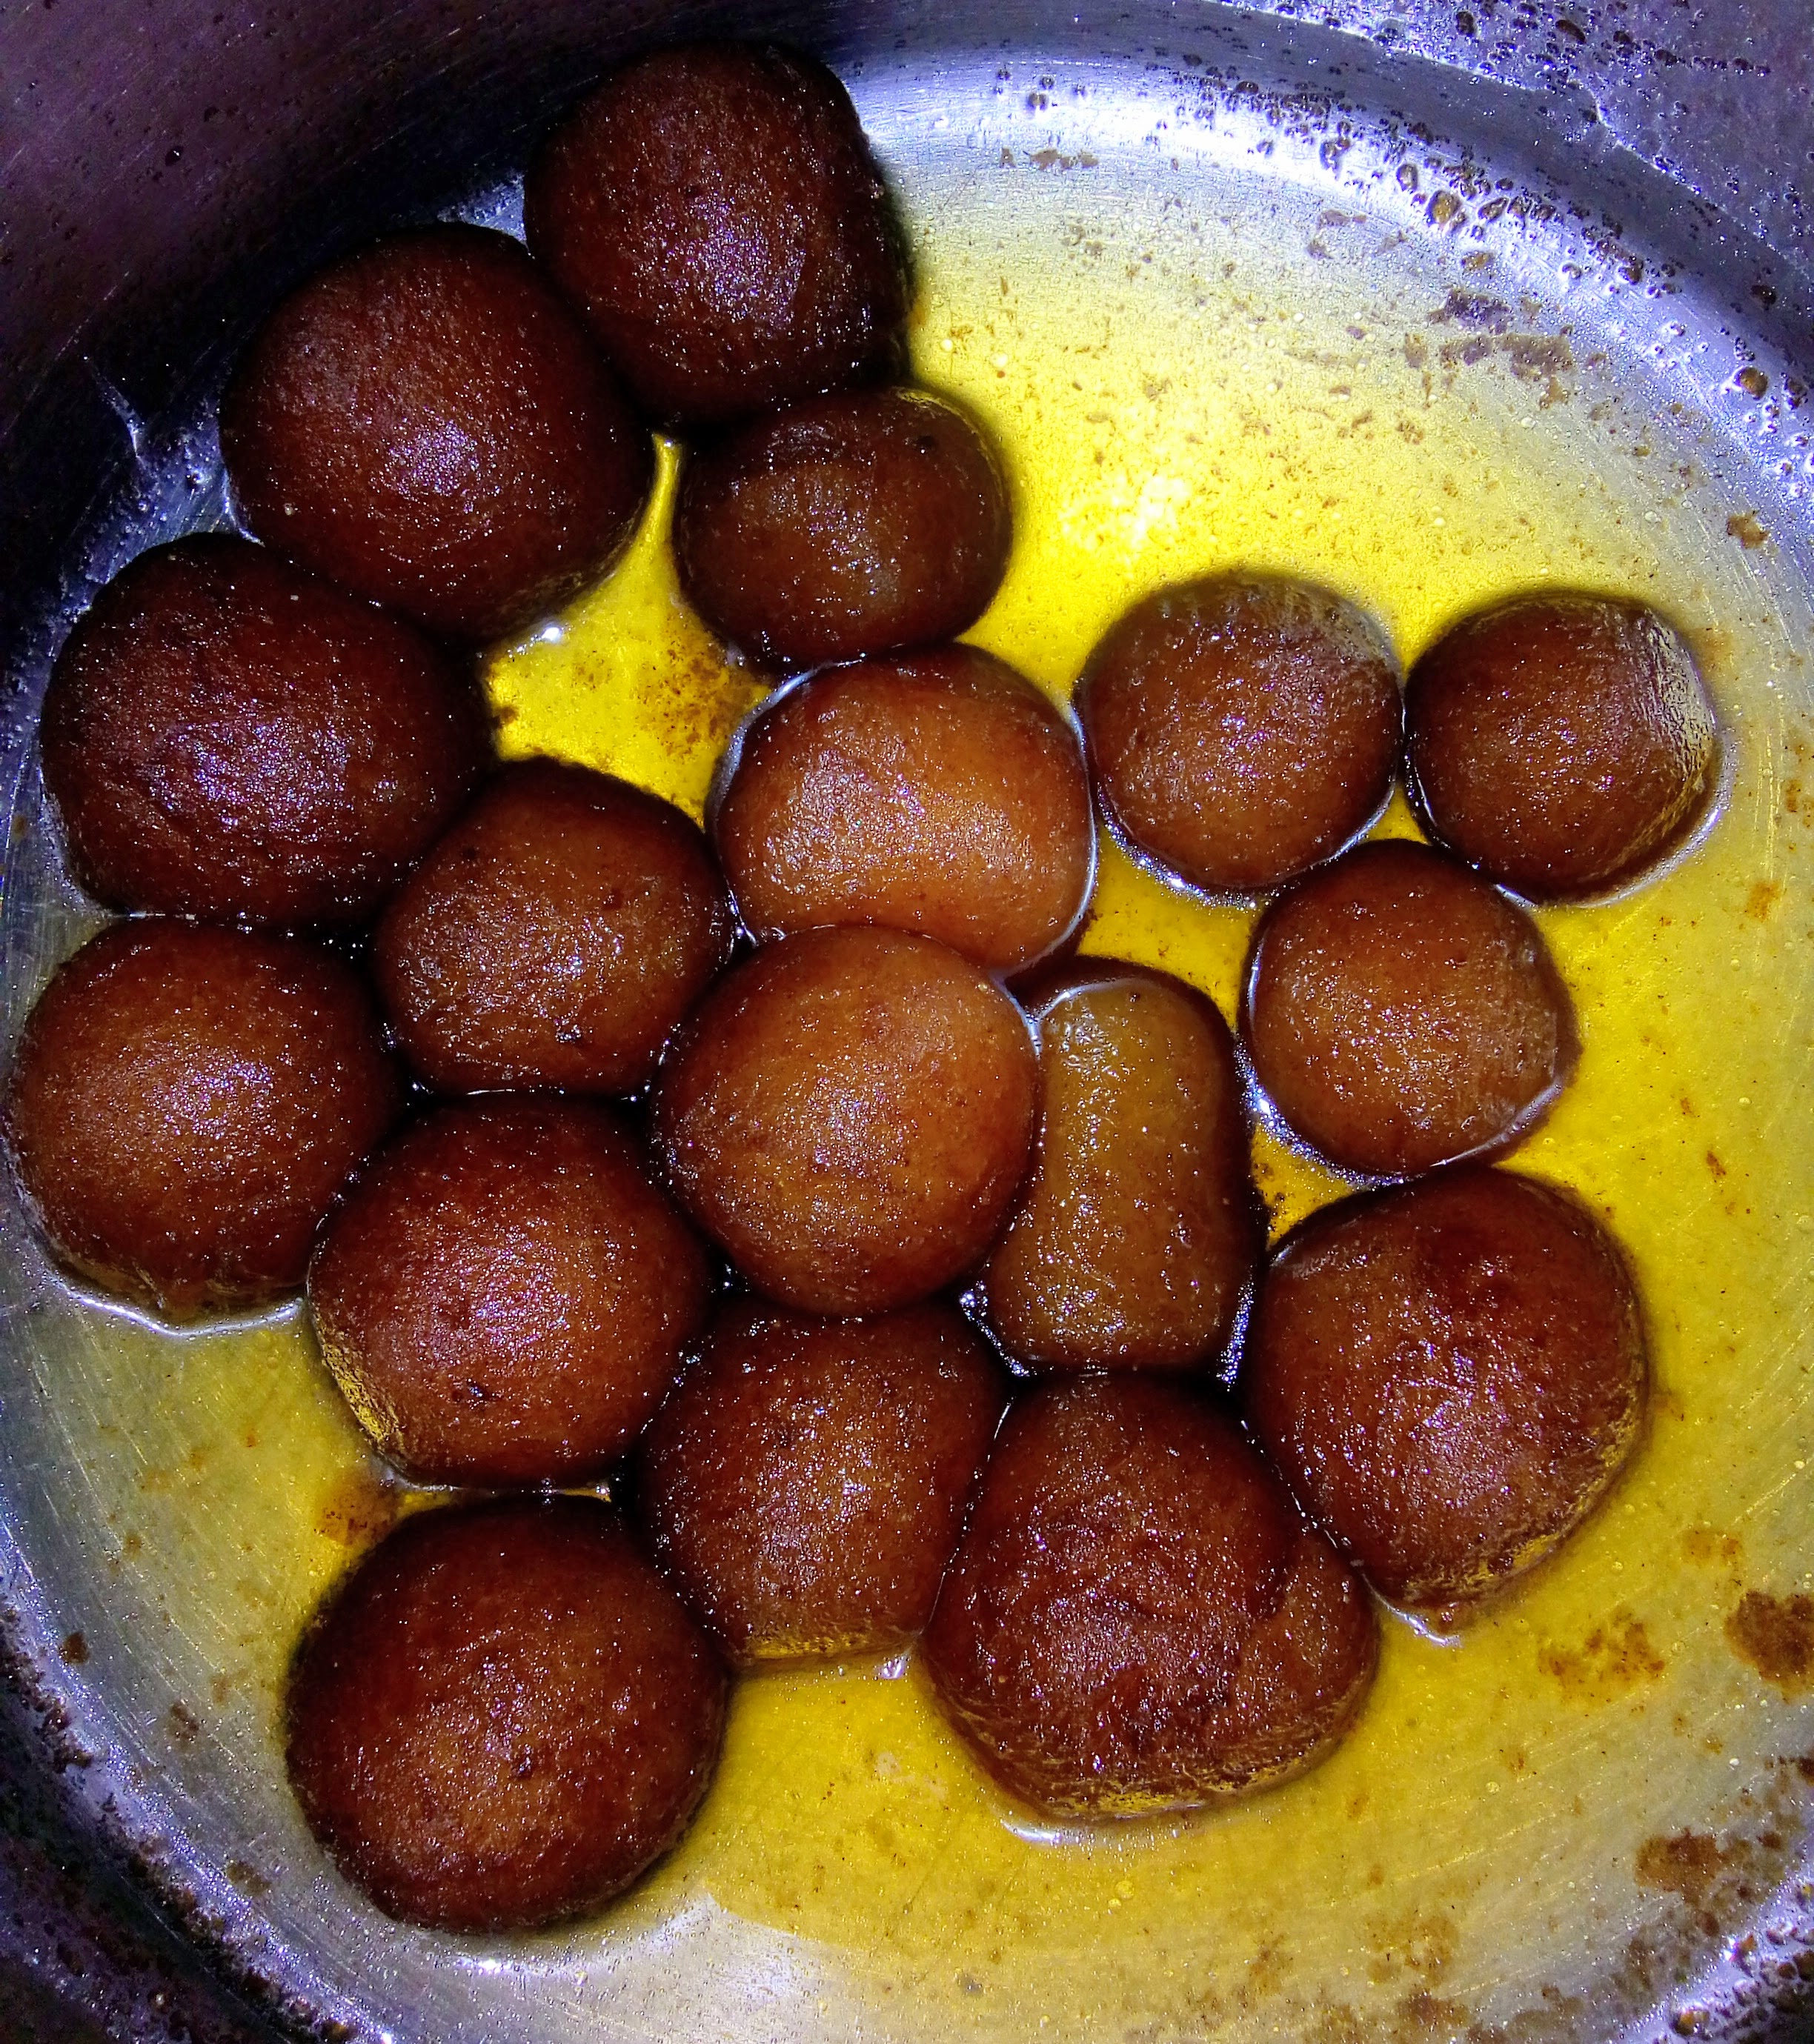food: (0, 16, 1735, 1951)
